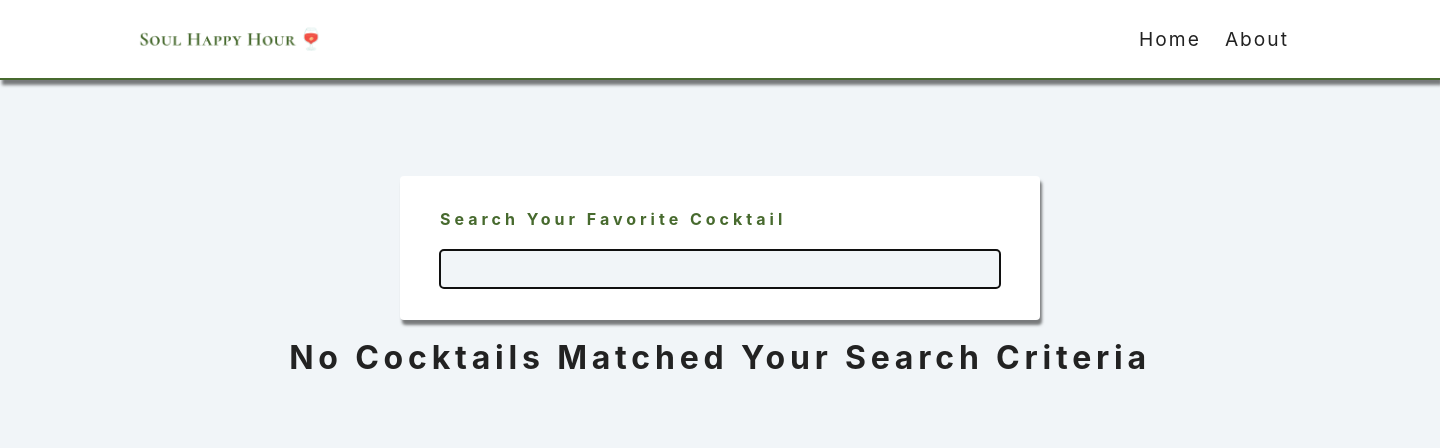
Test case: Test Suite › checks link to About Page
Click the link with test id "about-link": click(1257, 39) [1225,27,1289,51]
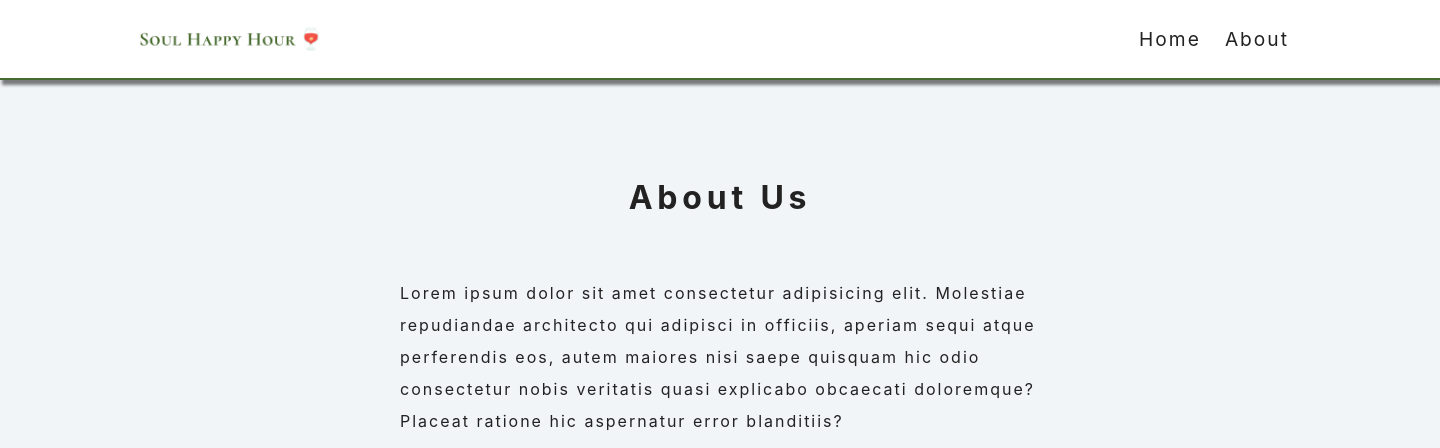
Expected: the heading with test id "about-us" reads "about us", [629,178,812,217]
